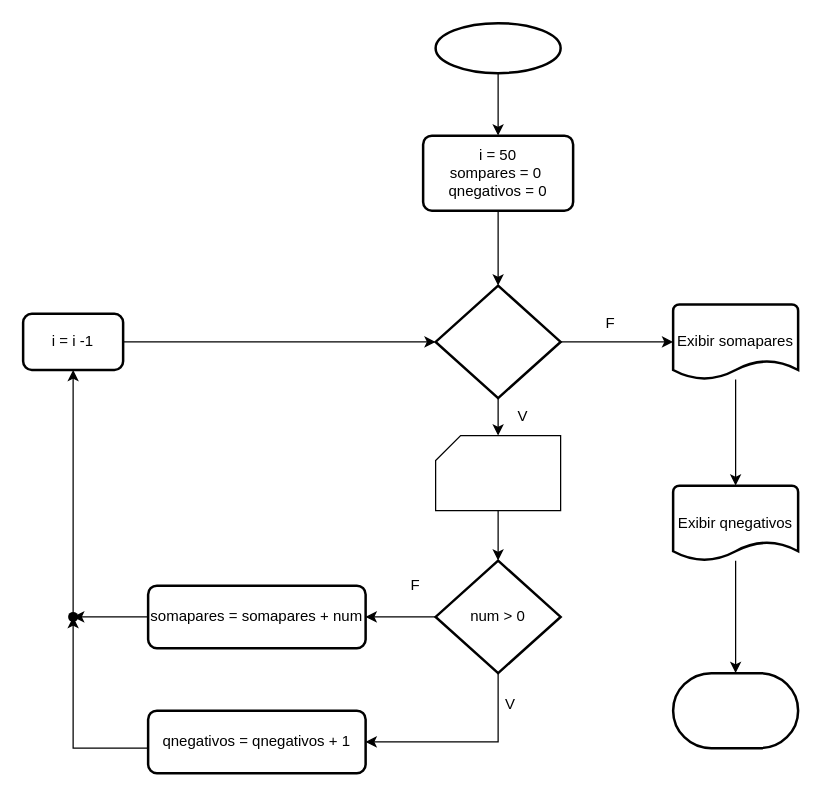
The diagram is 820 pixels wide and 795 high, and some of its shapes have lost their labels. The shapes that lost their labels are listed below. From the top down, each one's centre as x and y in pixels, then its label:
At (497,47): "Início".
At (497,341): "i > 0".
At (497,472): "num".
At (735,710): "Fim".
